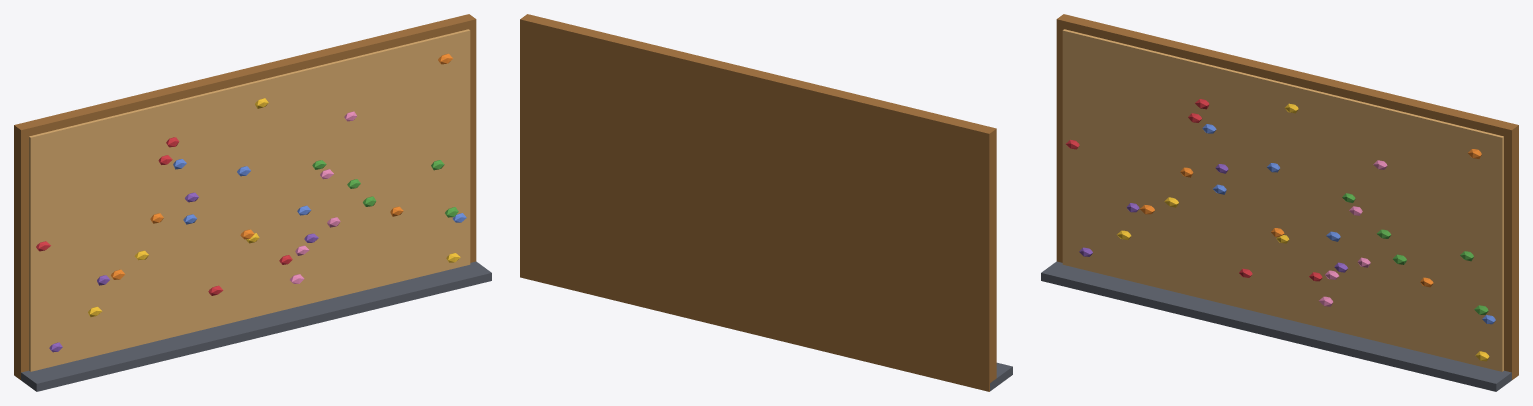
File: climbing_wall.glb
3 views of the same model, side by side, from view 1: azimuth 30°, elevation 25°; view 2: azimuth 150°, elevation 25°; view 3: azimuth 330°, elevation 25° (orthographic). The views are drawn at different scales.
Visible parts, largest first — view 1: root; view 2: root; view 3: root.
Boxes of the visible parts, x1,y1,x2,y2 form: root: [14, 14, 491, 391]; root: [520, 14, 1012, 391]; root: [1041, 14, 1518, 391].
Size of the model in its own units: 5.9 by 3.1 by 0.51.
